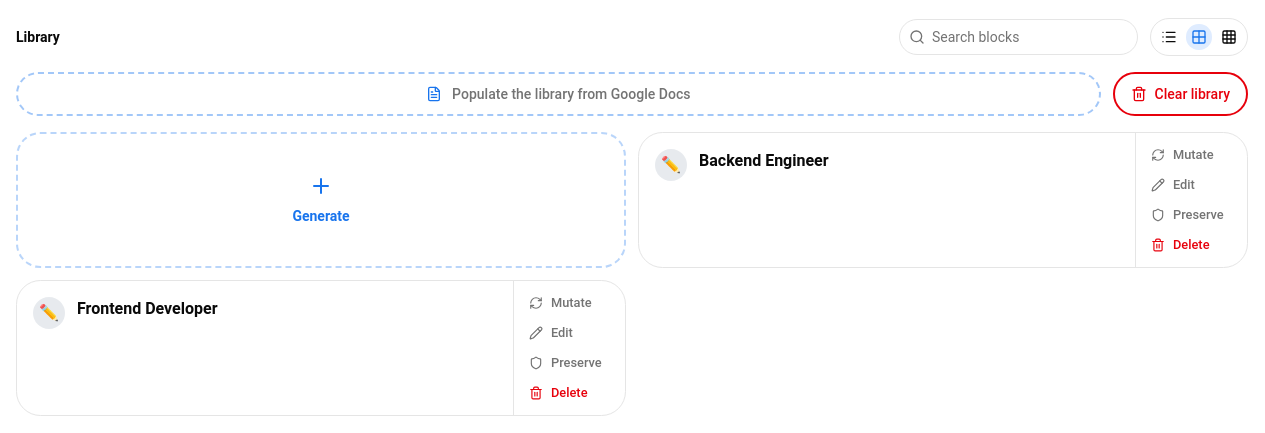
Scenario: narrows the grid to blocks matching a search term
The width and height of the screenshot is (1265, 433).
Expected: the text "Backend Engineer" is shown, x1=699 y1=151 x2=829 y2=170
Expected: the text "Frontend Developer" is shown, x1=77 y1=299 x2=218 y2=318
Type "Frontend" into the field with placeholder "Search blocks" at (1018, 37), box x1=899 y1=19 x2=1138 y2=55
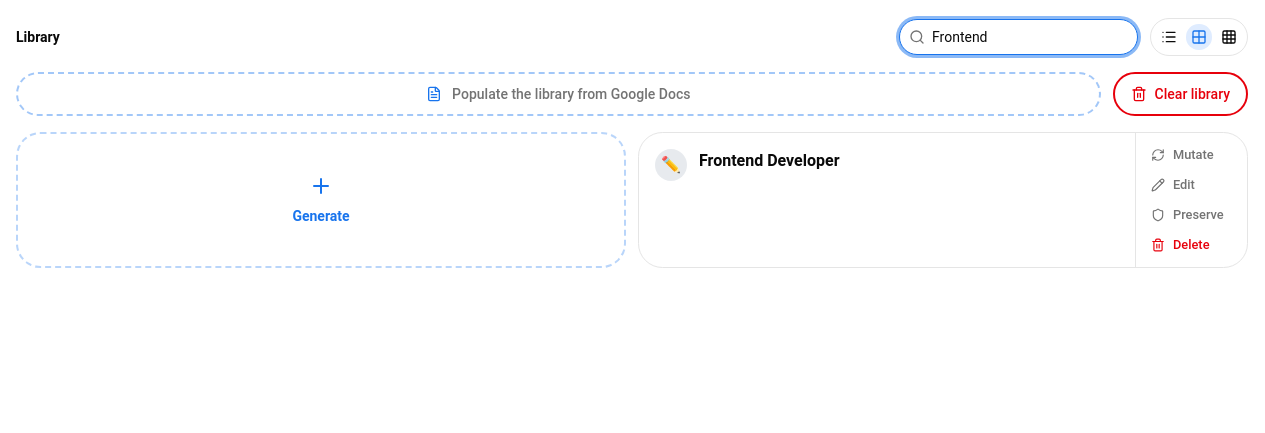
Expected: the text "Frontend Developer" is shown, x1=699 y1=151 x2=840 y2=170
Expected: the button "Backend Engineer" is gone
